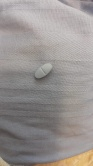Majezik: (34, 62, 53, 80)
